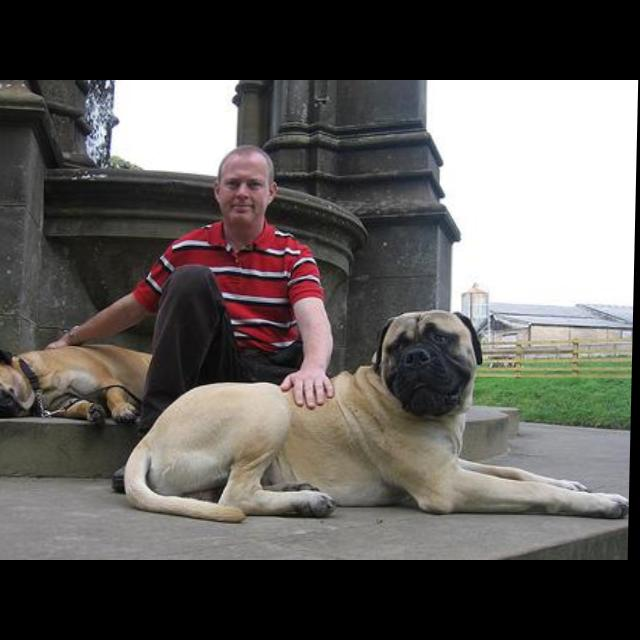bullmastiff: (122, 309, 635, 524), (1, 343, 157, 425)
face: (384, 311, 480, 415), (222, 157, 272, 223)
person: (46, 146, 342, 493)
